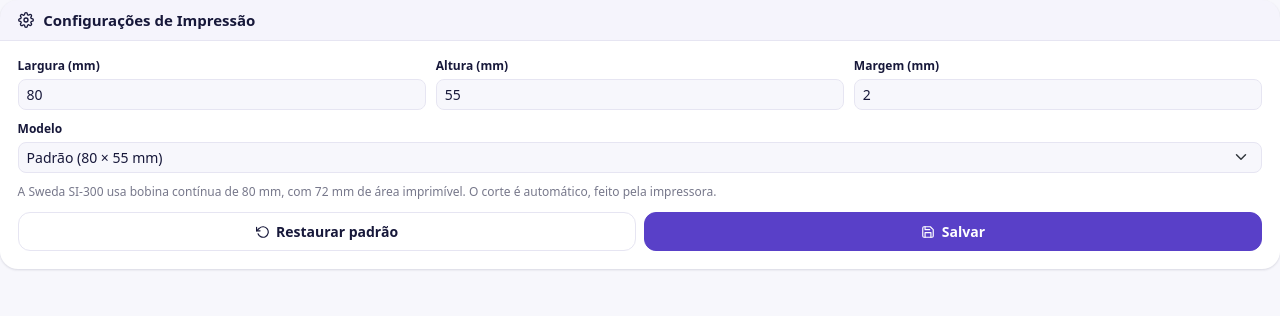
it: PrintSettingsPanel — ações › avisa quando as configurações são salvas
Click the button "Salvar": (953, 232) 644,212 -> 1262,251
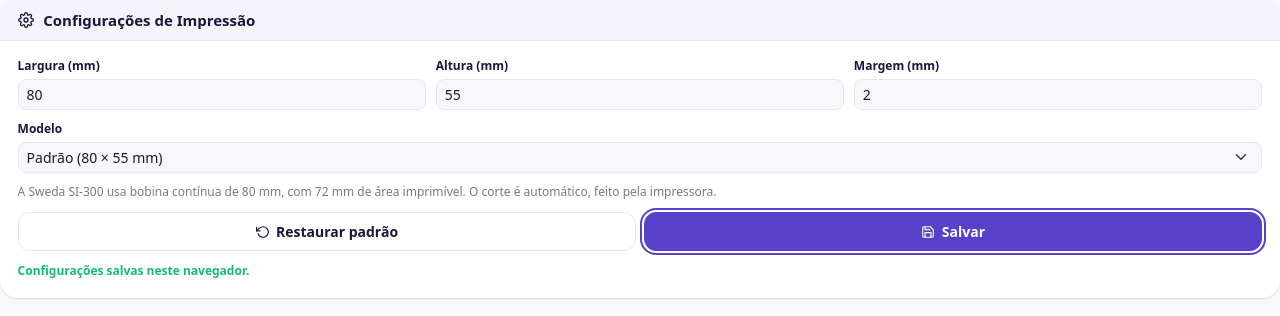
expect the message reads "Configurações salvas neste navegador.": met, box 18,262 -> 250,279
